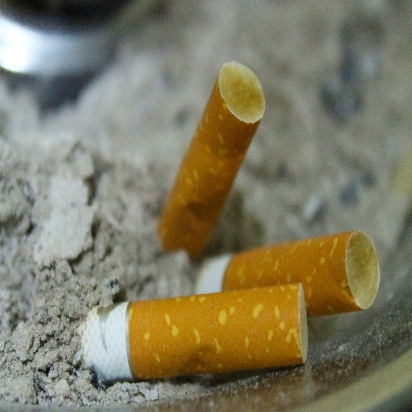cigarette: (76, 282, 314, 386), (157, 55, 270, 254), (190, 230, 384, 324)
